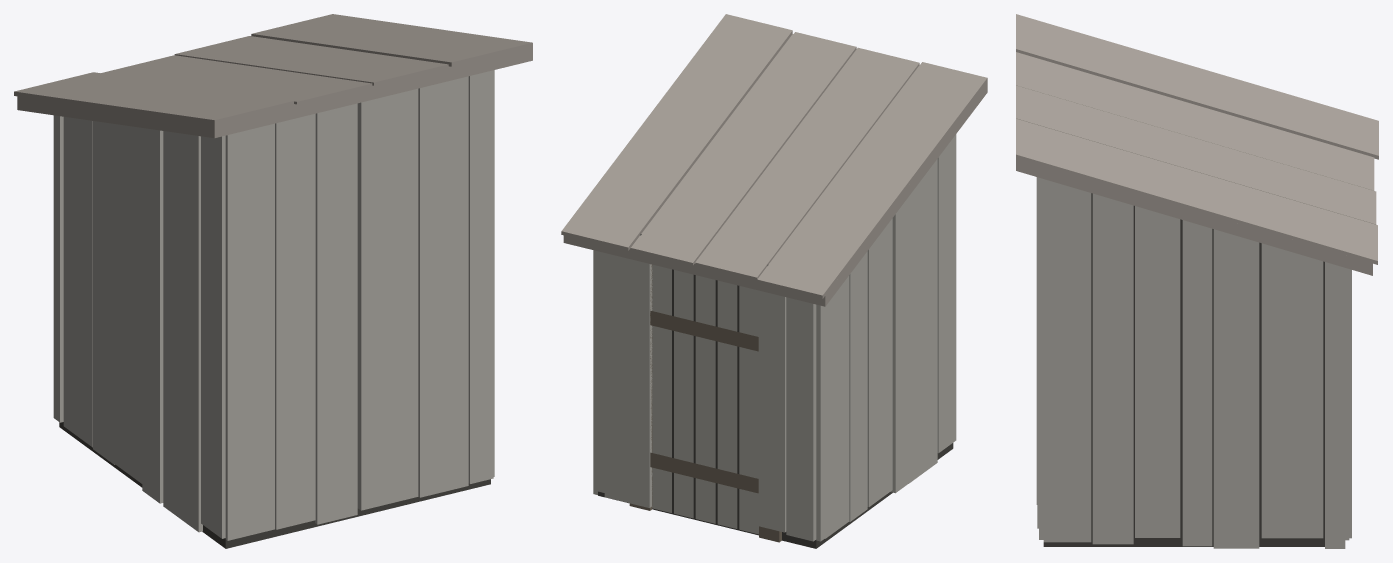
File: recon_1835_blk_randolph_clinton_a3_07__inferred_1835.glb
The picture shows the model from 3 angles, left to right: view 1: azimuth 30°, elevation 25°; view 2: azimuth 150°, elevation 25°; view 3: azimuth 270°, elevation 25°; orthographic projection. The views are drawn at different scales.
Visible parts, largest first — view 1: recon_1835_blk_randolph_clinton_a3_07__inferred_1835; view 2: recon_1835_blk_randolph_clinton_a3_07__inferred_1835; view 3: recon_1835_blk_randolph_clinton_a3_07__inferred_1835.
Boxes of the visible parts, box(x1,y1,x2,y2) form: recon_1835_blk_randolph_clinton_a3_07__inferred_1835: box(14, 14, 532, 548); recon_1835_blk_randolph_clinton_a3_07__inferred_1835: box(561, 14, 987, 548); recon_1835_blk_randolph_clinton_a3_07__inferred_1835: box(1016, 14, 1378, 548).
Size of the model in its own units: 2.06 by 2.77 by 2.25.
